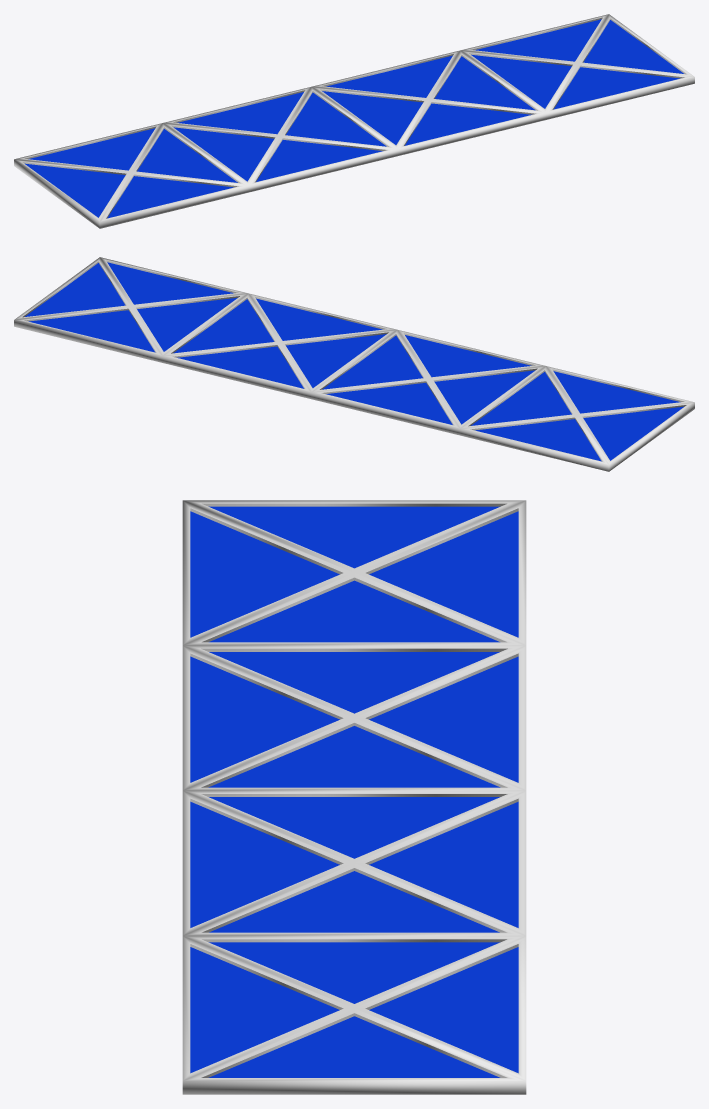
File: SM_FloorFlat8x2.fbx
3 views of the same model, one above another, from view 1: azimuth 30°, elevation 25°; view 2: azimuth 150°, elevation 25°; view 3: azimuth 270°, elevation 25° (orthographic). The views are drawn at different scales.
Parts seen in each view (by area): view 1: SM_FloorFlat4x2_Broken; view 2: SM_FloorFlat4x2_Broken; view 3: SM_FloorFlat4x2_Broken.
Boxes of the visible parts, box(x1,y1,x2,y2) form: SM_FloorFlat4x2_Broken: box(14, 14, 694, 228); SM_FloorFlat4x2_Broken: box(14, 257, 694, 471); SM_FloorFlat4x2_Broken: box(182, 500, 526, 1094).
Bounding box in the file's own units: 800 × 8.66 × 200.
